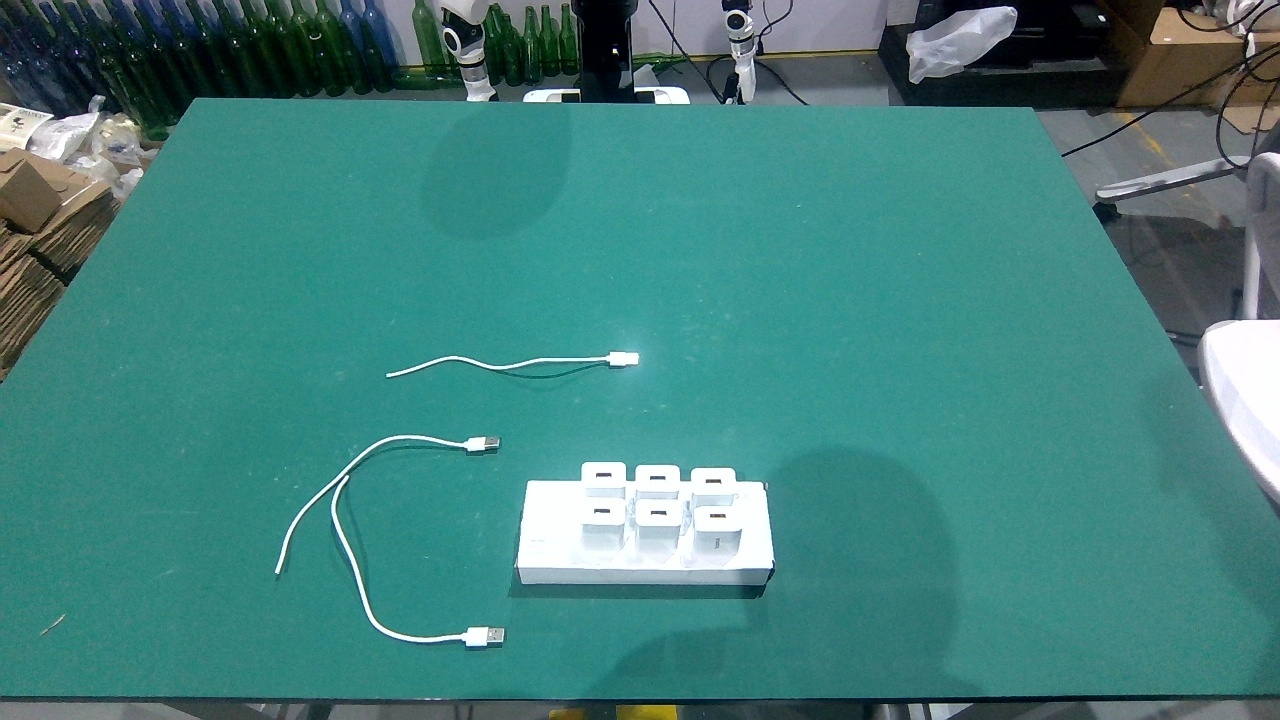usb_a_plug: (444, 627, 505, 647), (591, 353, 639, 366), (455, 437, 499, 450)
